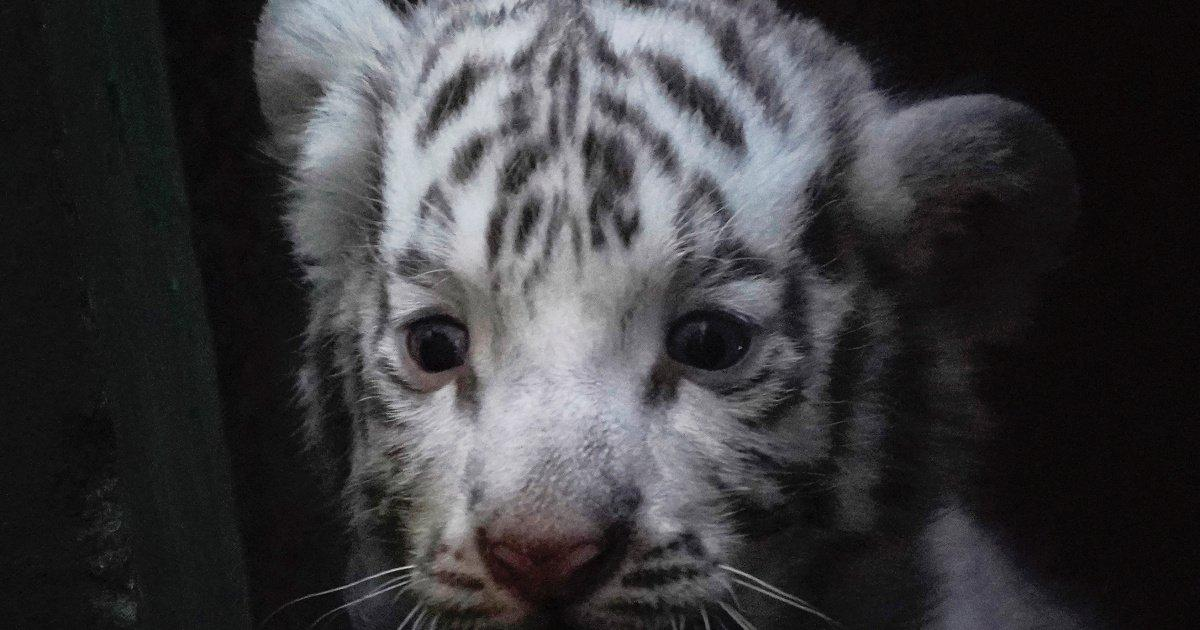Tiger: (254, 0, 1077, 629)
